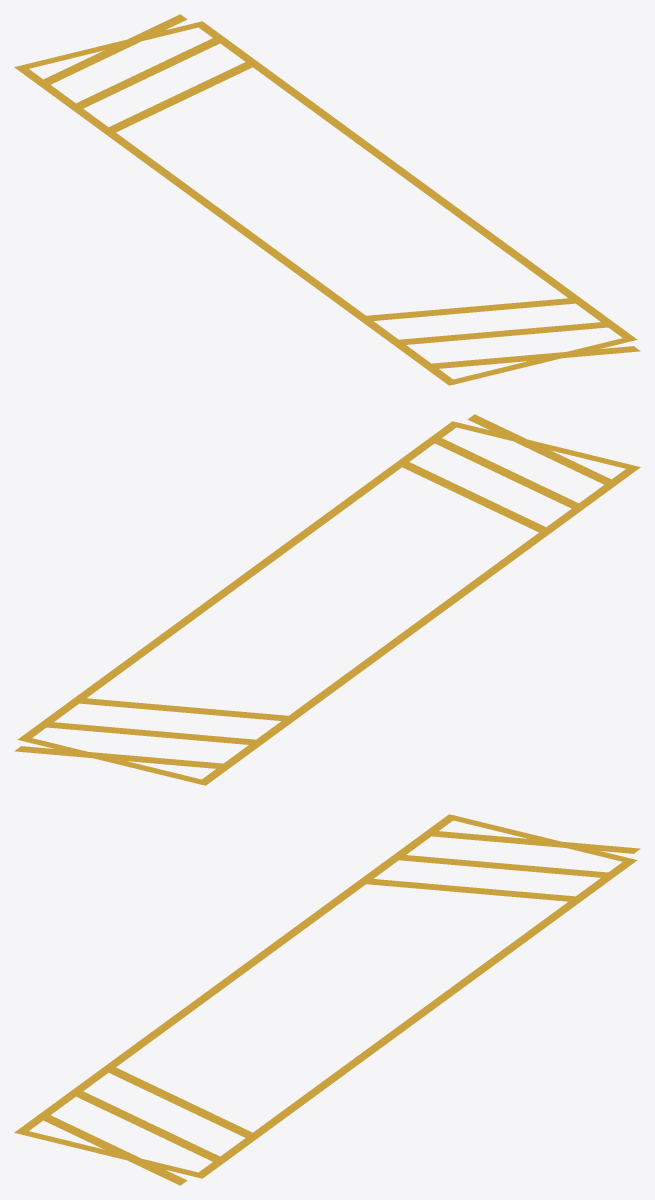
Rendered from Marking_BusStopBay_12m.glb.
The picture shows the model from 3 angles, top to bottom: view 1: azimuth 30°, elevation 25°; view 2: azimuth 150°, elevation 25°; view 3: azimuth 330°, elevation 25°; orthographic projection.
Visible parts, largest first — view 1: Marking_BusStopBay_12m_PaintYellow; view 2: Marking_BusStopBay_12m_PaintYellow; view 3: Marking_BusStopBay_12m_PaintYellow.
Boxes of the visible parts, x1,y1,x2,y2 form: Marking_BusStopBay_12m_PaintYellow: [14, 14, 640, 385]; Marking_BusStopBay_12m_PaintYellow: [14, 414, 640, 785]; Marking_BusStopBay_12m_PaintYellow: [14, 814, 640, 1185].
Bounding box in the file's own units: 3 × 0 × 12.7.
